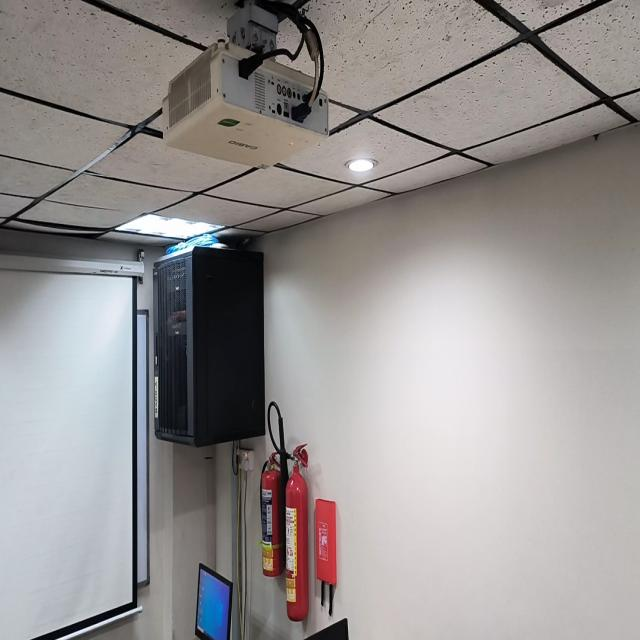Fire Extinguisher: (286, 444, 309, 621), (261, 460, 284, 577)
Light: (116, 214, 222, 240), (347, 159, 375, 172)
Monitor: (195, 564, 233, 639), (305, 618, 348, 639)
Projector: (161, 23, 329, 168)
